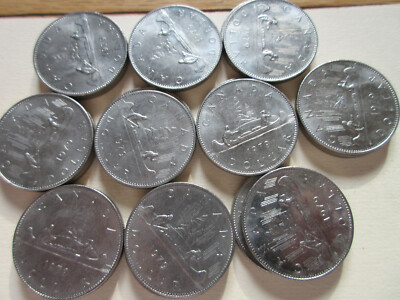coin: (242, 167, 352, 279), (13, 185, 122, 298), (125, 183, 233, 297), (95, 90, 195, 187), (296, 60, 398, 155), (197, 79, 297, 175), (0, 93, 93, 190), (129, 5, 221, 89), (33, 12, 126, 95), (222, 0, 317, 81)
